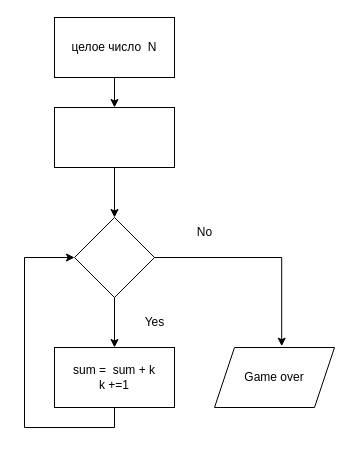
Image size: 352x453. Some labels were removed from this diagram. The shapes that lost their labels are listed below. From the top down, each one's box as (x1, y1, x2, y2) in pixels, then its label:
(54, 106, 174, 168): k = 1
(74, 216, 154, 298): k < N
